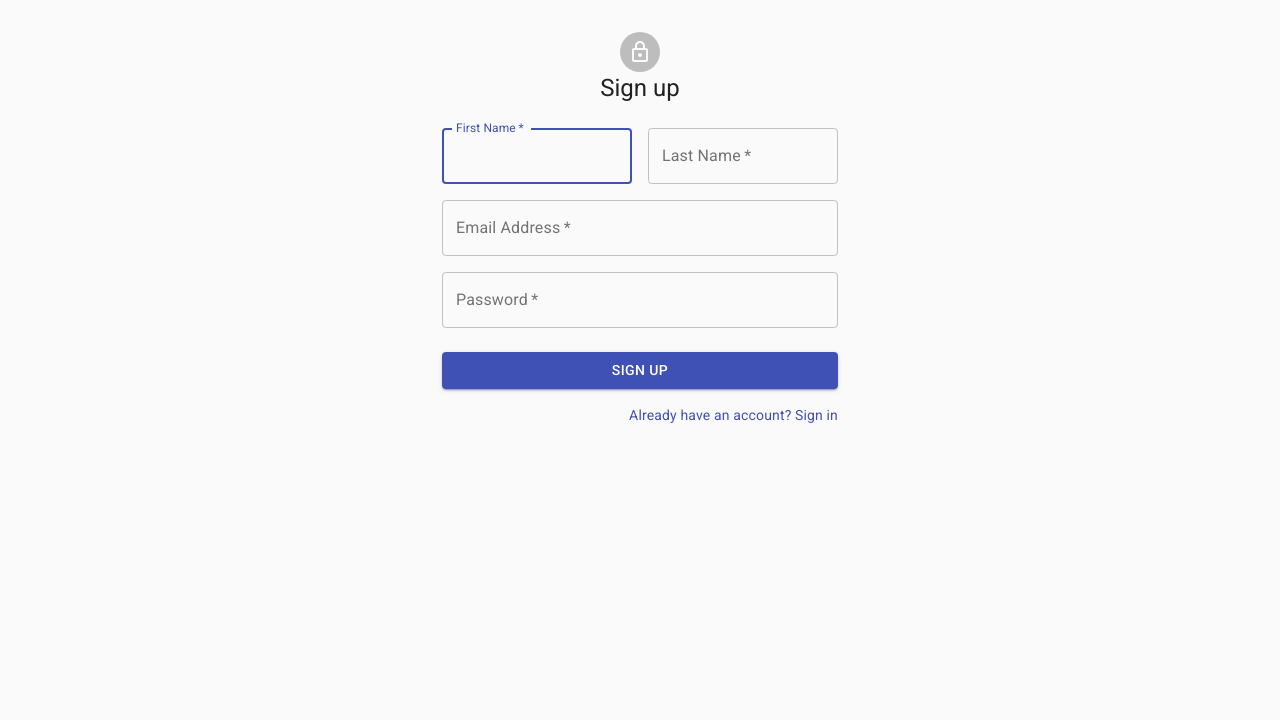
Test: Signup › modal alerts server error
The image size is (1280, 720).
Type "robot" into the field with test id "firstName-signup" at (537, 156), box [442,128,632,184]
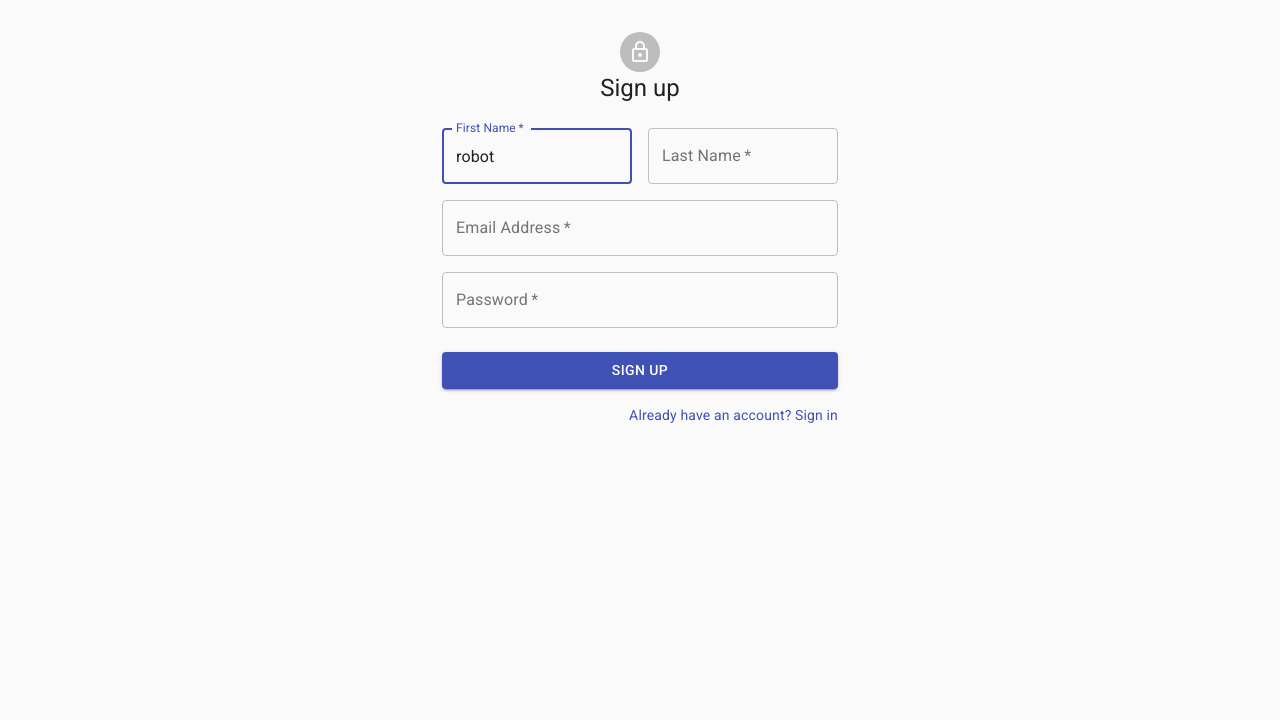
Type "tester" into the field with test id "lastName-signup" at (743, 156), box [648,128,838,184]
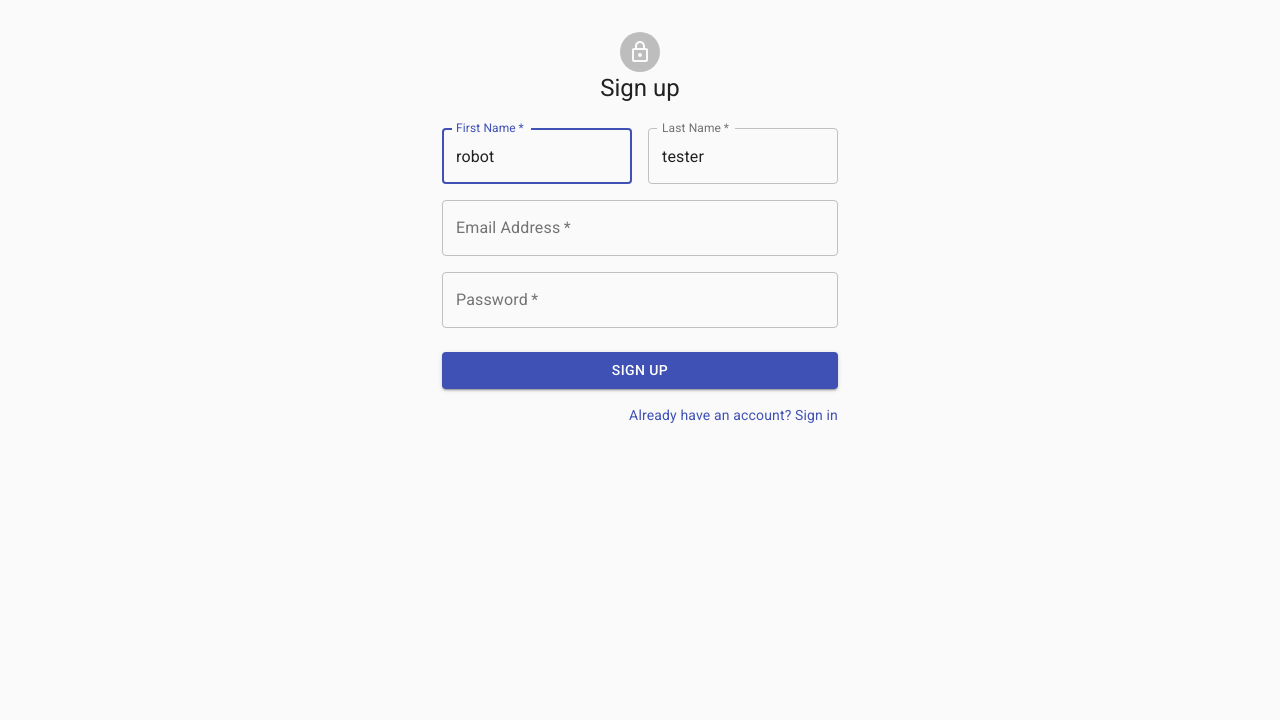
Type "serverError@gmail.com" into the field with test id "email-signup" at (640, 228), box [442,200,838,256]
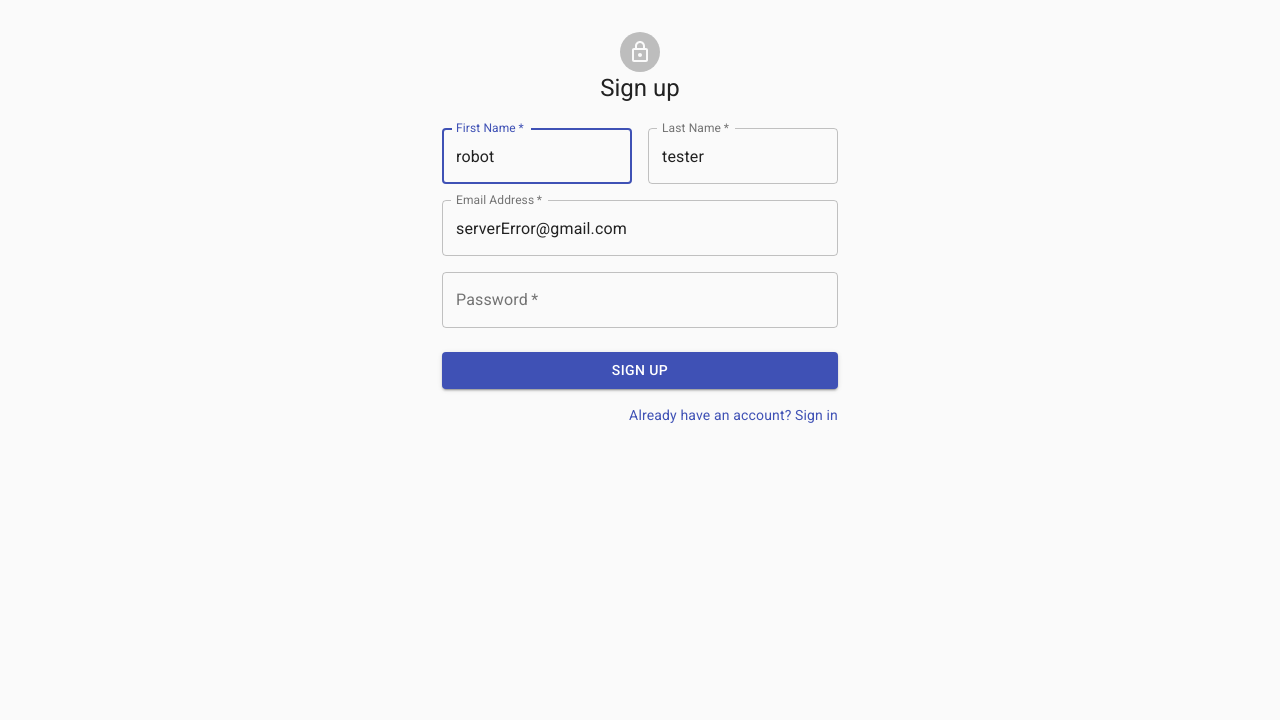
Type "zxcvbnm123" into the password field with test id "password-signup" at (640, 300), box [442,272,838,328]
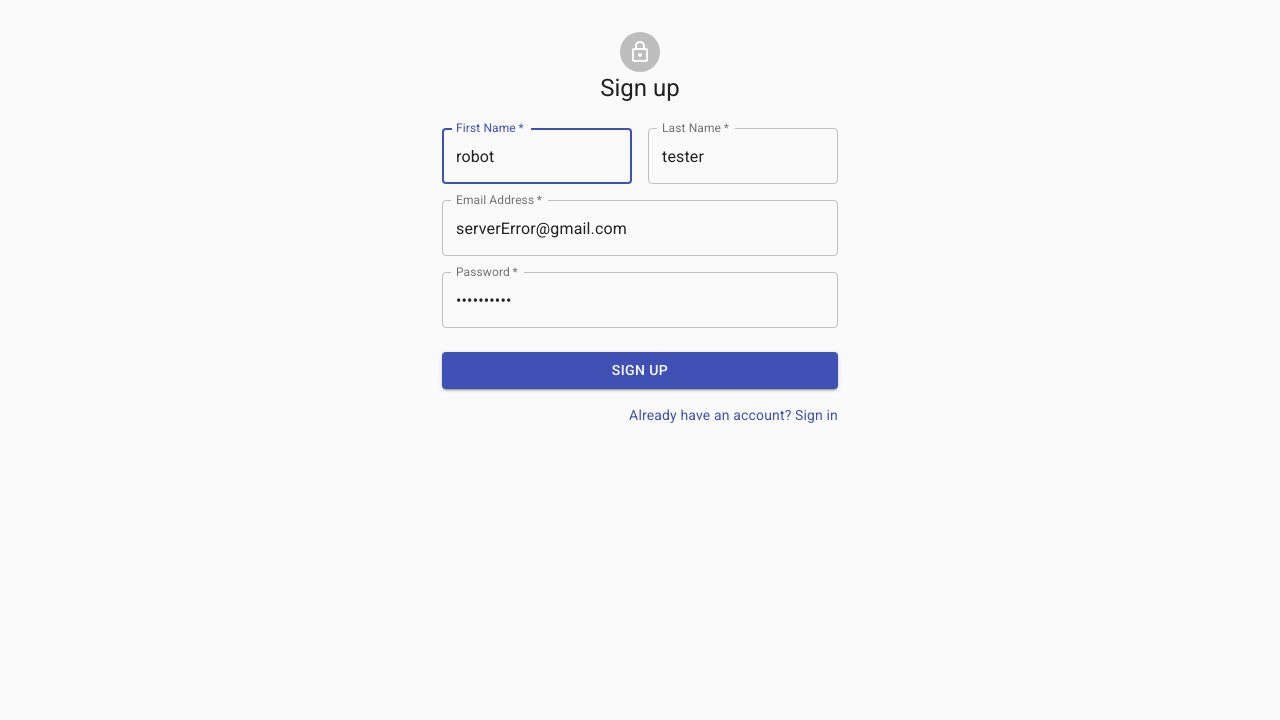
Click the button at (640, 370), box [442,352,838,388]
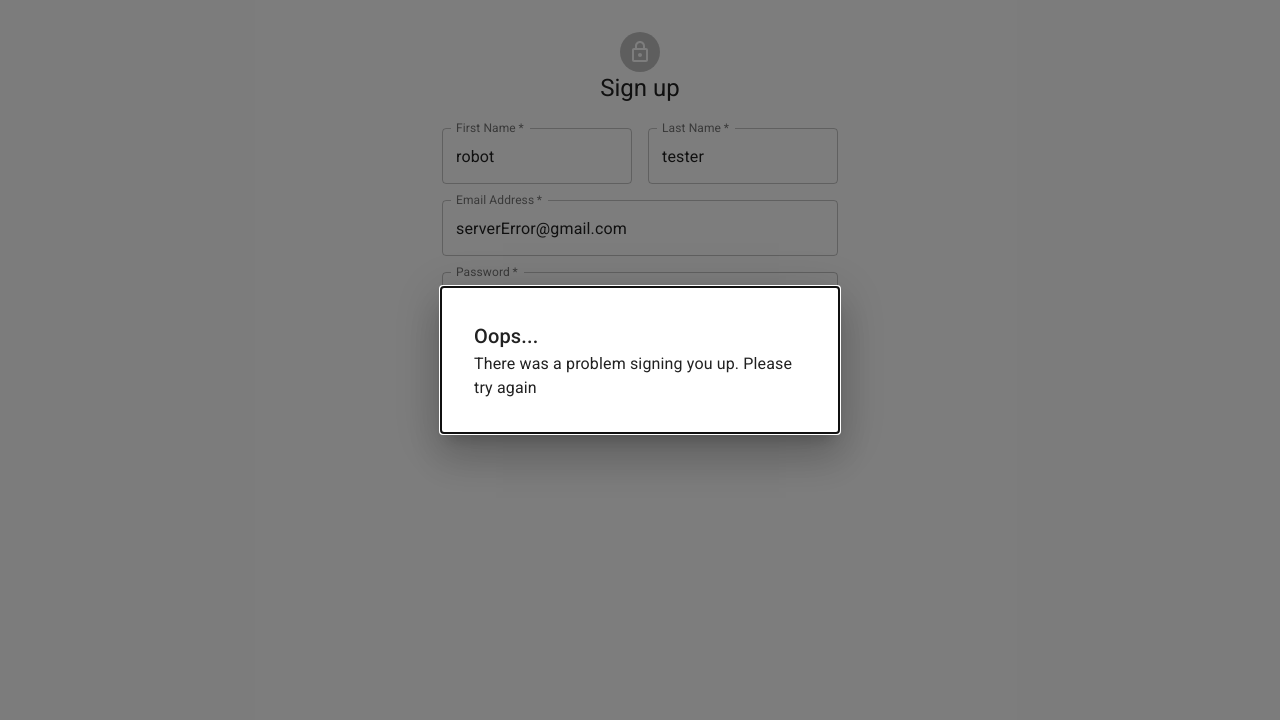
Result: the heading "Oops..." is shown at [474,324,538,348]
